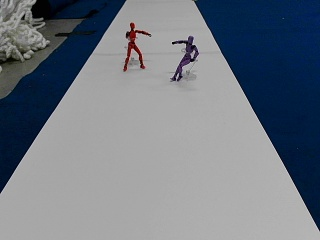pedestrian: (123, 22, 152, 70), (171, 35, 198, 81)
